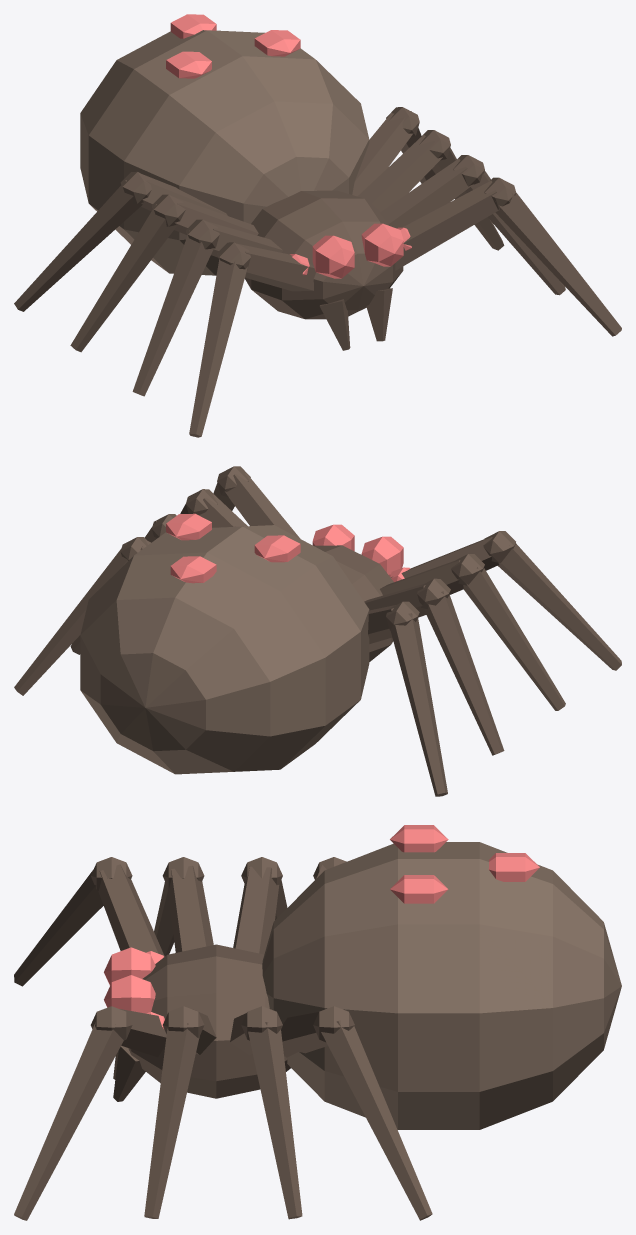
The model's file is Mdl_Spider.fbx.
3 renders of one model, top to bottom at view 1: azimuth 30°, elevation 25°; view 2: azimuth 150°, elevation 25°; view 3: azimuth 270°, elevation 25°, orthographic. The views are drawn at different scales.
Parts seen in each view (by area): view 1: Body, LegL1, LegR1, LegR3, LegR2, LegR4, LegL2, LegL3, LegL4; view 2: Body, LegR4, LegR2, LegR1, LegR3, LegL4, LegL1, LegL2, LegL3; view 3: Body, LegL1, LegL4, LegR1, LegL3, LegL2, LegR2, LegR3.
Boxes of the visible parts, x1,y1,x2,y2 form: Body: [80, 14, 411, 350]; LegL1: [395, 177, 621, 336]; LegR1: [189, 242, 315, 437]; LegR3: [70, 194, 258, 352]; LegR2: [132, 219, 282, 396]; LegR4: [14, 171, 227, 311]; LegL2: [380, 155, 565, 295]; LegL3: [357, 130, 504, 250]; LegL4: [352, 107, 435, 196]; Body: [80, 513, 410, 774]; LegR4: [368, 601, 447, 796]; LegR2: [380, 554, 565, 710]; LegR1: [390, 531, 621, 670]; LegR3: [364, 578, 504, 755]; LegL4: [14, 537, 150, 695]; LegL1: [213, 466, 300, 538]; LegL2: [180, 489, 247, 527]; LegL3: [70, 514, 176, 654]; Body: [104, 825, 621, 1129]; LegL1: [14, 1006, 166, 1220]; LegL4: [281, 1006, 432, 1220]; LegR1: [14, 857, 164, 986]; LegL3: [230, 1006, 302, 1219]; LegL2: [144, 1006, 216, 1218]; LegR2: [154, 857, 213, 956]; LegR3: [233, 857, 287, 954].
Size of the model in its own units: 0.881 by 0.4368 by 0.9291.
